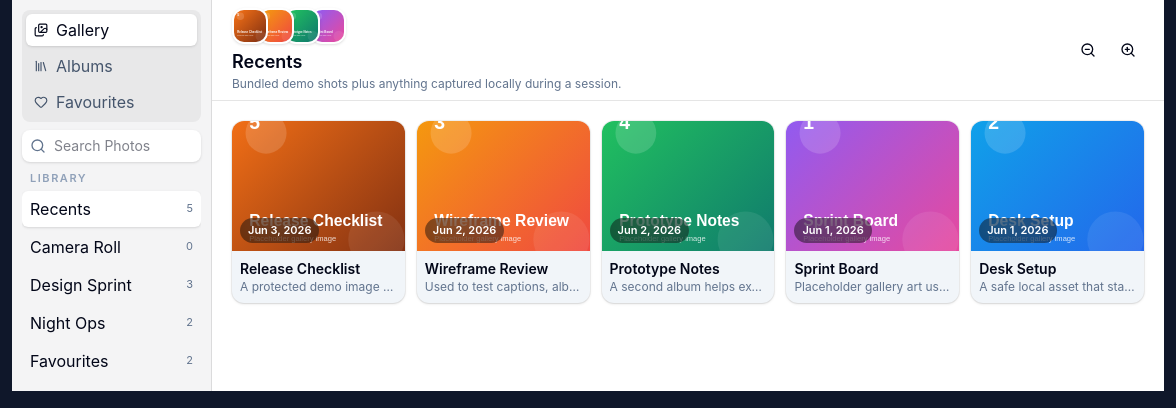
Test case: PhotosApp › shows the bundled demo photo dates on gallery cards and opens the fullscreen viewer
What coordinates should you click on to do the following:
click the button with aria-label "Open Sprint Board"
I would click on:
 (873, 212)
Its box is [786,121,959,303].
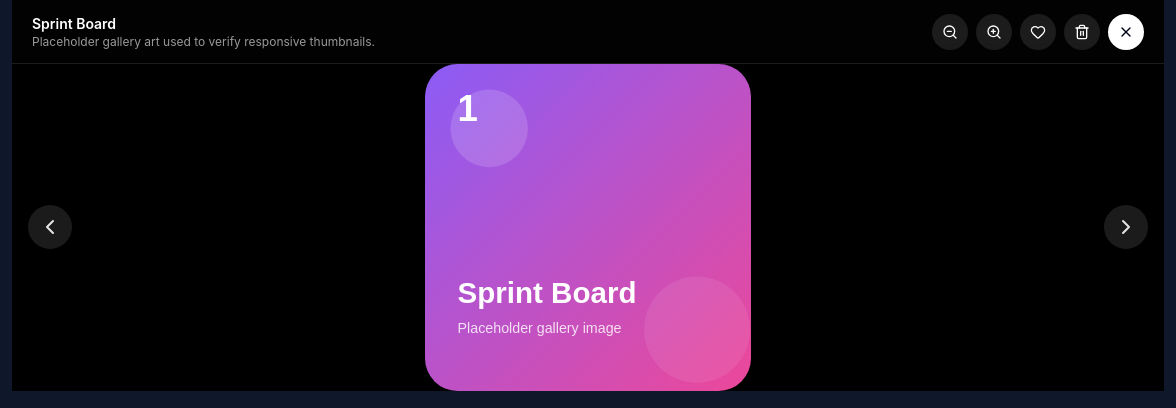
Check: the button named "Next photo" is shown, box [1104,205,1148,249]
Check: the button named "Zoom in" is shown, box [976,14,1012,50]
